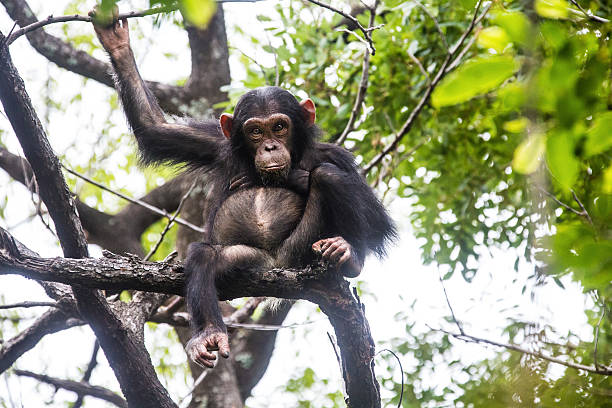chimpanzee: (202, 76, 322, 183)
